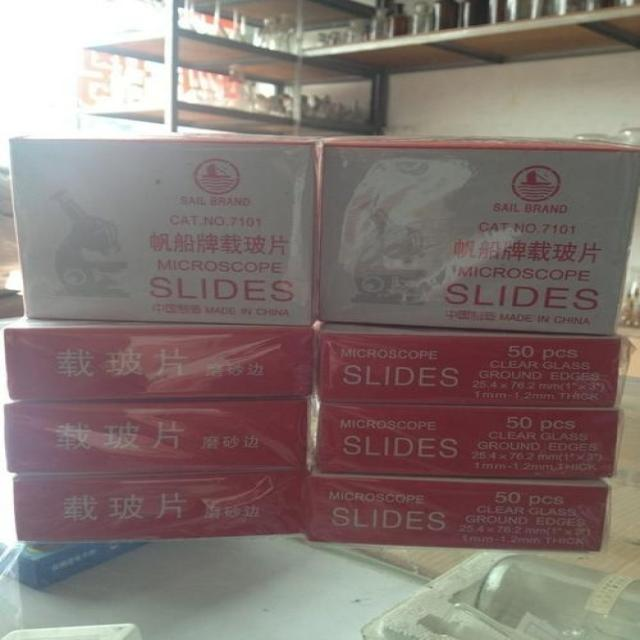box: (317, 136, 640, 335), (9, 134, 323, 327), (5, 319, 315, 400), (307, 474, 611, 554), (320, 325, 618, 406), (315, 402, 618, 479), (3, 400, 308, 475), (13, 470, 305, 543)
